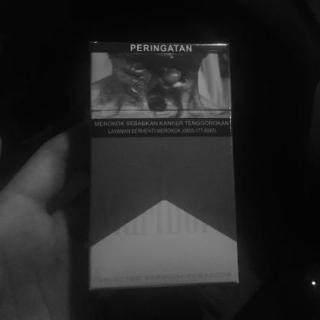objects: (90, 42, 238, 291)
